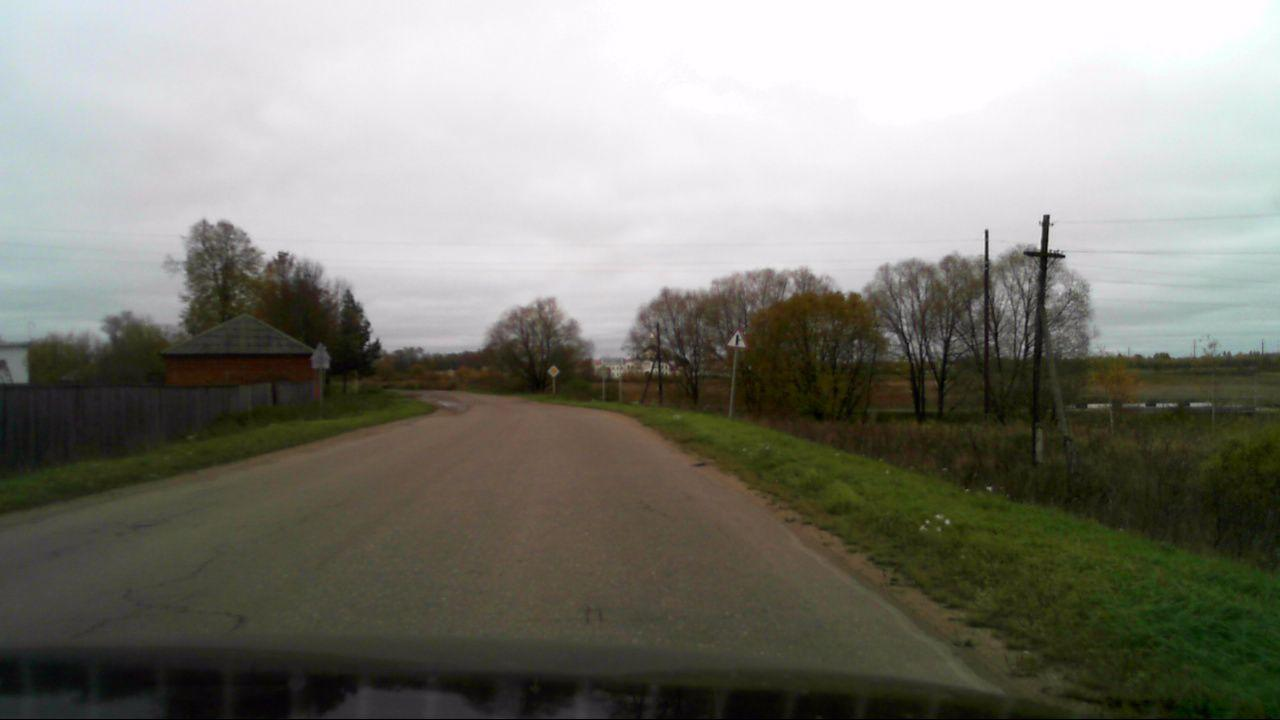road_sign: (725, 328, 749, 349), (547, 364, 560, 378)
